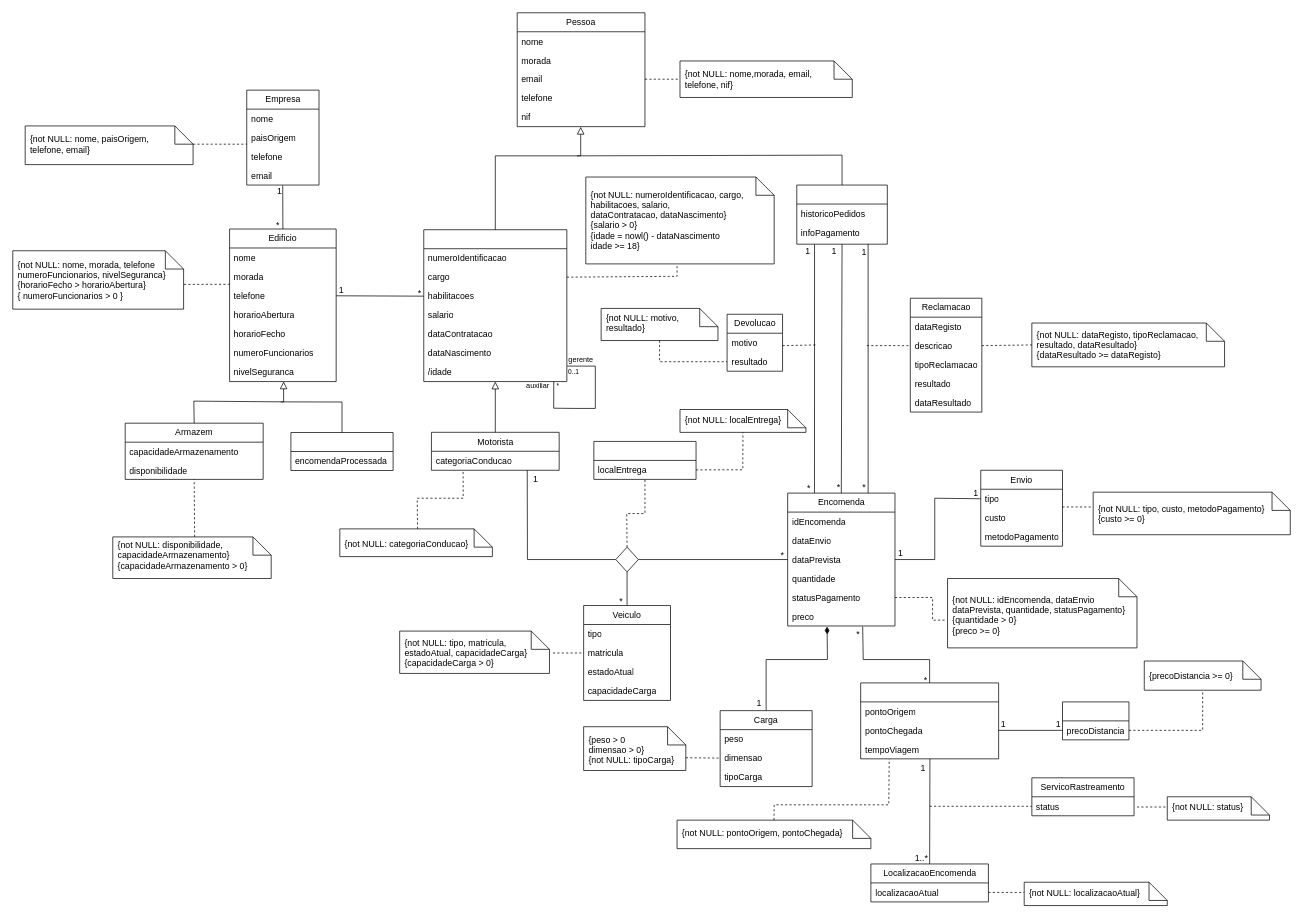
Some shapes in this 1303 by 918 pixel diagram are drawn without their labels. The shapes that lost their labels are listed below. From the top down, each one's box as (x1, y1, x2, y2) in pixels, then its label:
(796, 184, 887, 244): Cliente
(423, 229, 567, 382): Funcionario
(290, 432, 393, 470): Loja
(593, 441, 696, 479): TipoEntrega
(860, 682, 999, 759): Rota
(1062, 701, 1129, 740): Tarifa
